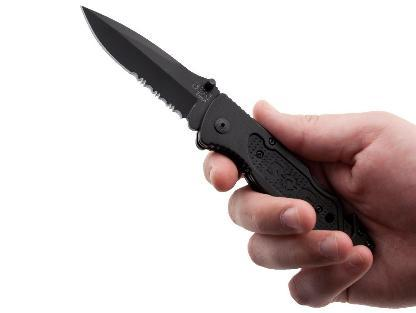knife: (75, 1, 324, 236)
